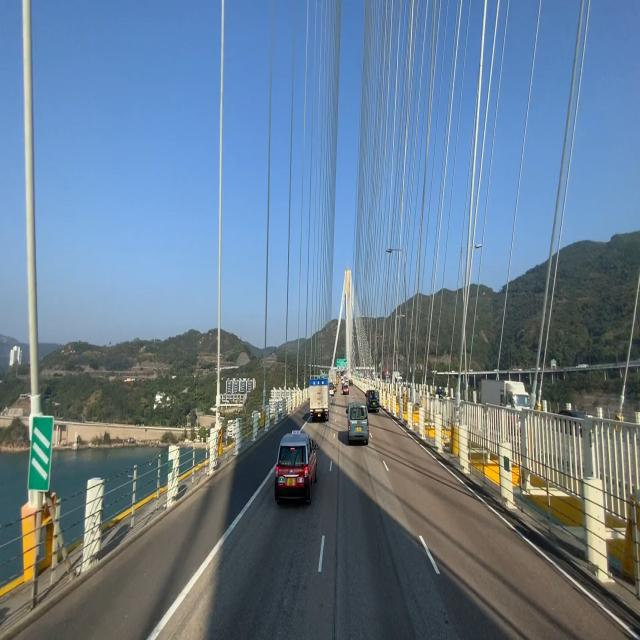Car: (276, 426, 320, 506), (311, 374, 332, 424), (347, 400, 369, 443), (366, 388, 382, 417)
